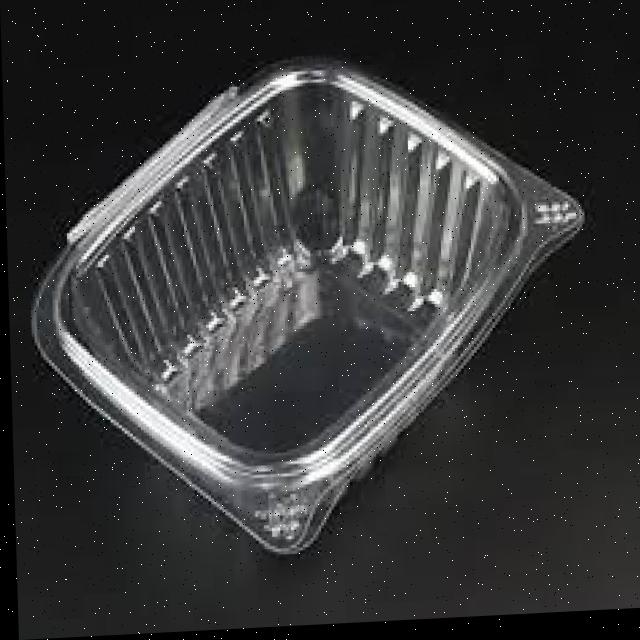disposable: (15, 38, 604, 580)
